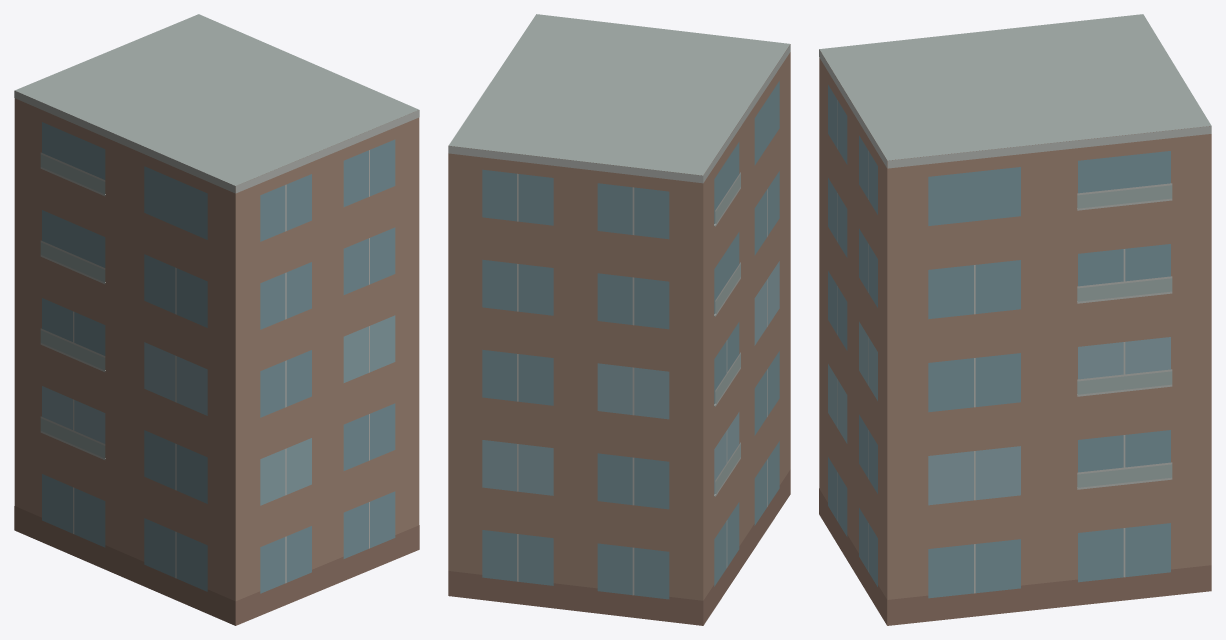
Rendered from survey-upis-32693617.glb.
The picture shows the model from 3 angles, left to right: view 1: azimuth 30°, elevation 25°; view 2: azimuth 150°, elevation 25°; view 3: azimuth 270°, elevation 25°; orthographic projection. The views are drawn at different scales.
Parts seen in each view (by area): view 1: survey-upis-32693617.tmp; view 2: survey-upis-32693617.tmp; view 3: survey-upis-32693617.tmp.
Boxes of the visible parts, bbox=[...] form: survey-upis-32693617.tmp: bbox=[14, 14, 419, 625]; survey-upis-32693617.tmp: bbox=[448, 14, 790, 625]; survey-upis-32693617.tmp: bbox=[819, 14, 1211, 625].
Bounding box in the file's own units: 9.6 × 14.2 × 10.86.
